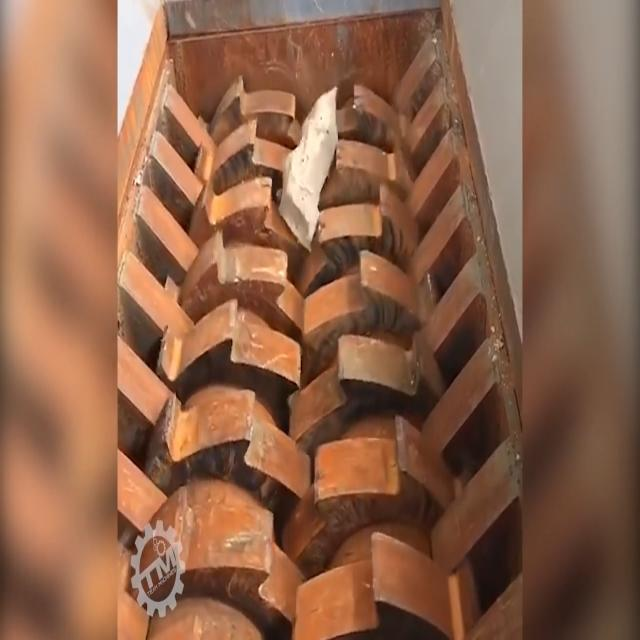Broyeur: (118, 1, 522, 640)
